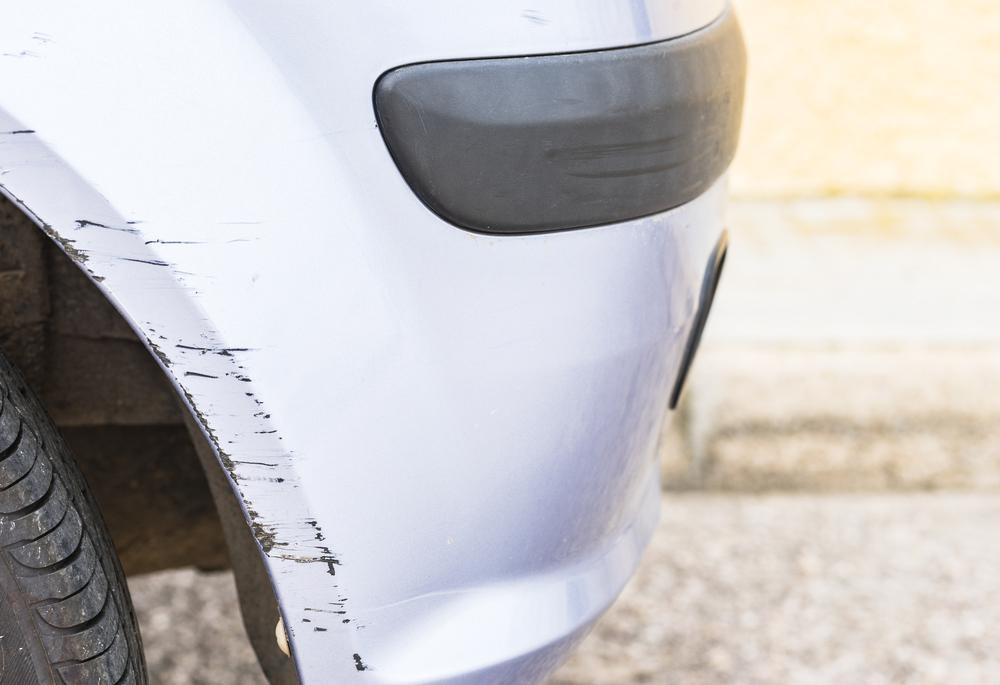scratch: (0, 127, 377, 680)
